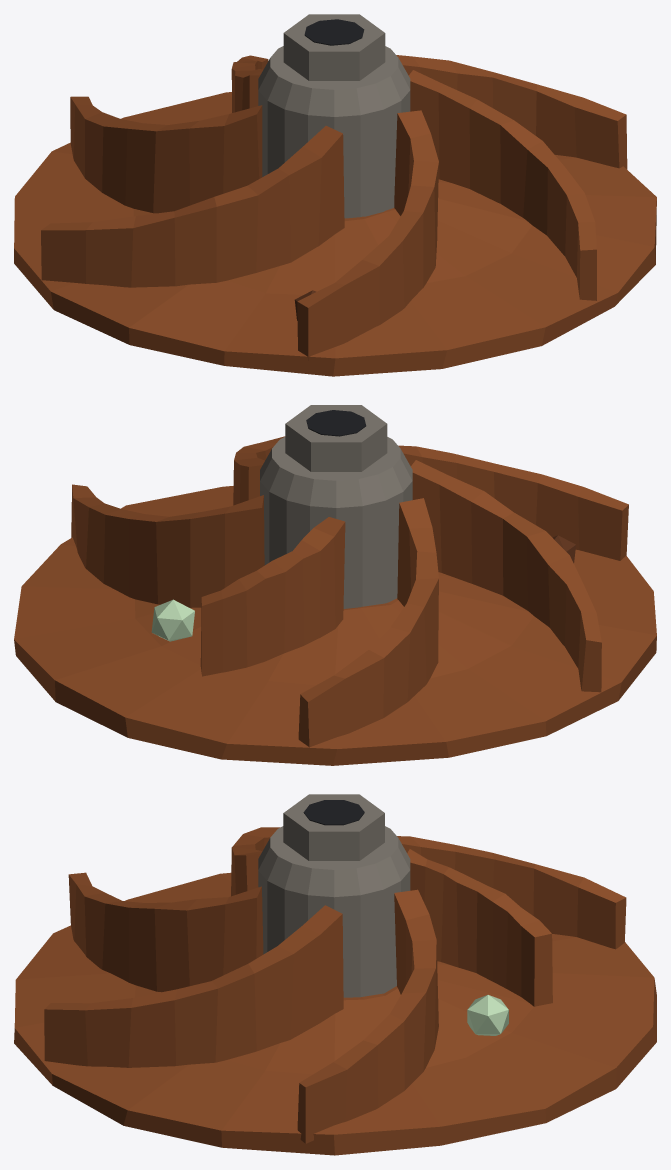
Rendered from impeller_scrap.glb.
3 renders of one model, top to bottom at view 1: azimuth 30°, elevation 25°; view 2: azimuth 150°, elevation 25°; view 3: azimuth 270°, elevation 25°, orthographic.
Visible parts, largest first — view 1: impeller_scrap; view 2: impeller_scrap; view 3: impeller_scrap.
Part boxes in pixels (x1,y1,x2,y2): impeller_scrap: (14, 14, 656, 376); impeller_scrap: (14, 405, 656, 765); impeller_scrap: (14, 794, 656, 1155).
Size of the model in its own units: 0.1599 by 0.057 by 0.1583.
